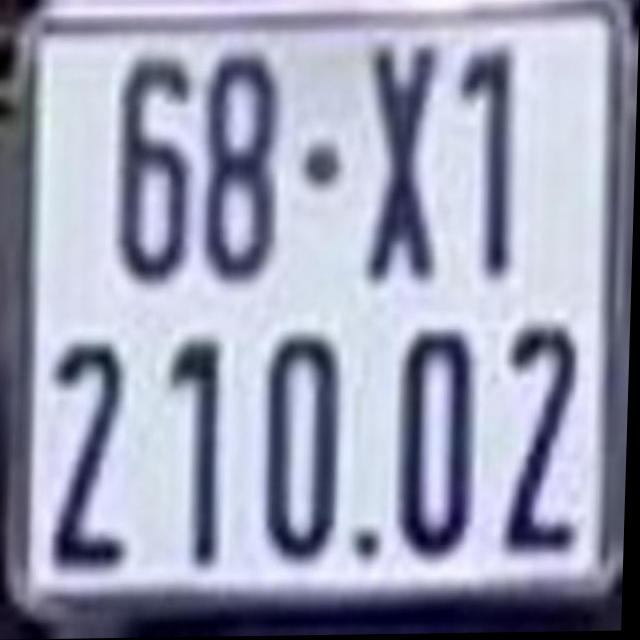0: (262, 337, 345, 562), (400, 331, 475, 555)
1: (457, 47, 525, 272), (166, 338, 224, 564)
2: (51, 342, 132, 567), (508, 324, 587, 548)
6: (116, 58, 192, 283)
8: (202, 56, 286, 285)
X: (364, 42, 443, 282)
